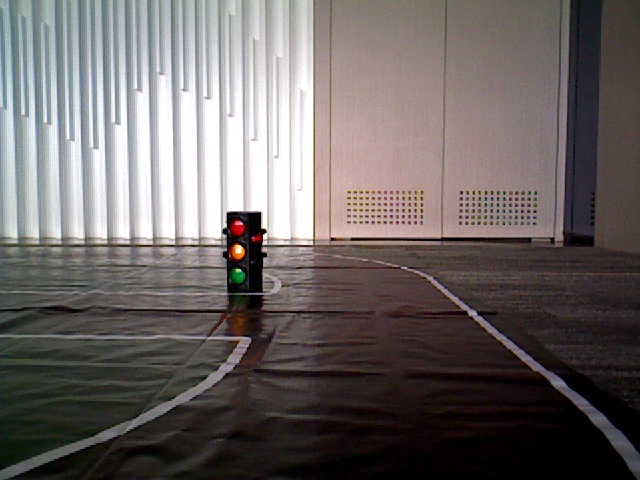yellow: (228, 213, 249, 284)
